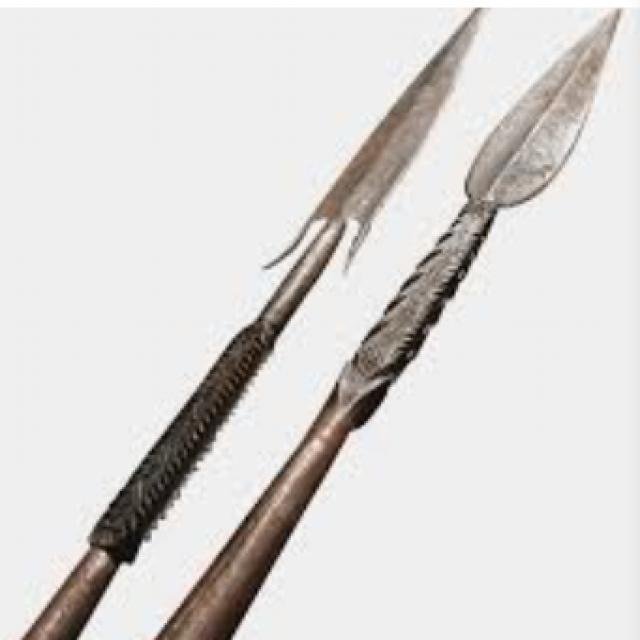spear: (21, 10, 477, 632), (174, 6, 628, 618)
